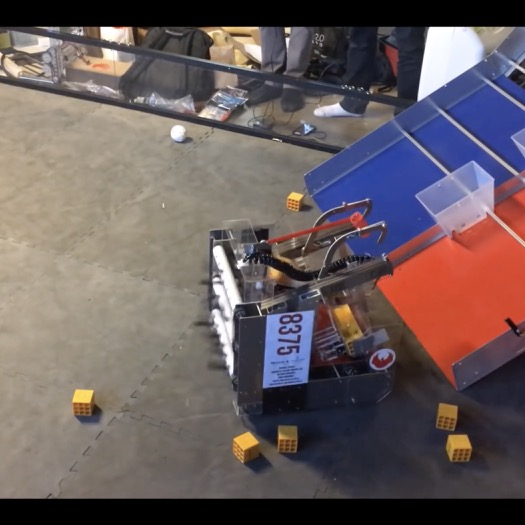robot: (195, 193, 407, 423)
